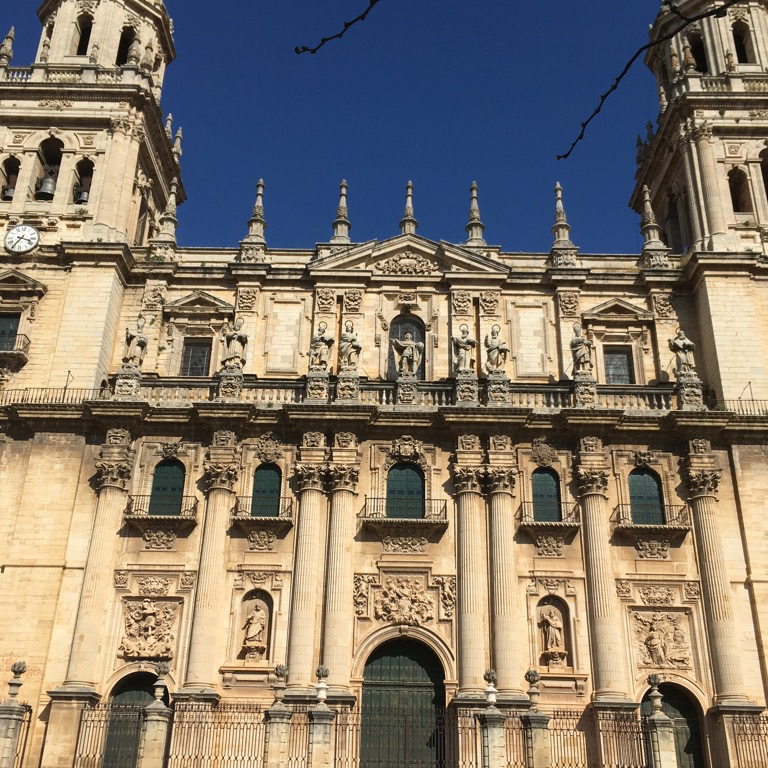arco-medio-punto: (347, 624, 453, 697), (634, 673, 708, 720), (104, 665, 174, 708), (385, 307, 429, 341), (383, 457, 427, 485), (148, 452, 188, 482), (626, 461, 664, 488), (527, 461, 563, 485), (250, 457, 284, 480)
fronton: (576, 294, 654, 325), (159, 289, 230, 316), (1, 270, 50, 294)
fronton-partido: (306, 230, 509, 282)
vano-adintelado: (597, 336, 644, 387), (174, 329, 219, 380)
